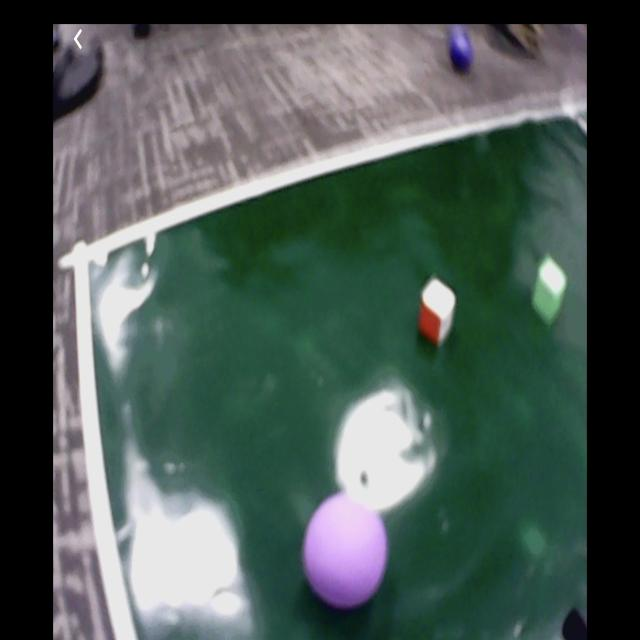ball: (306, 498, 385, 607), (451, 37, 473, 71)
